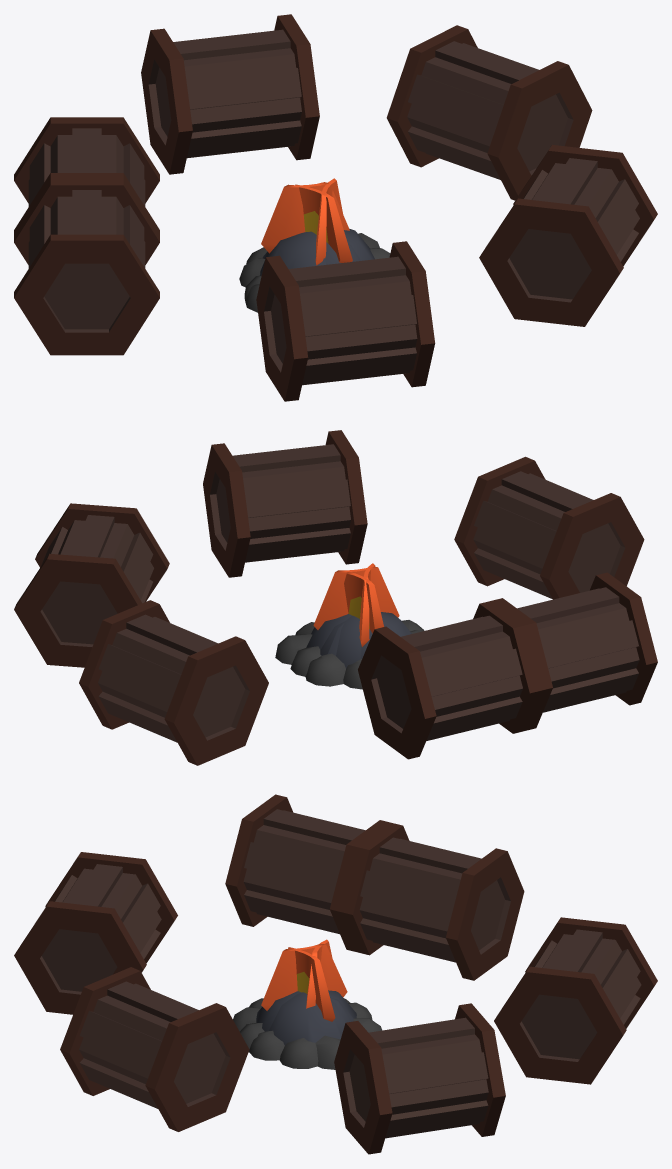
The model's file is campfire.fbx.
The picture shows the model from 3 angles, top to bottom: view 1: azimuth 30°, elevation 25°; view 2: azimuth 150°, elevation 25°; view 3: azimuth 270°, elevation 25°; orthographic projection. The views are drawn at different scales.
Parts seen in each view (by area): view 1: clipBarrel_large (×6), ear_point (×3), foot_shapeA (×3); view 2: clipBarrel_large (×6), foot_shapeA (×4), ear_point (×3); view 3: clipBarrel_large (×6), foot_shapeA (×4), ear_point (×2).
Boxes of the visible parts, x1,y1,x2,y2 form: clipBarrel_large (×6): [14, 14, 657, 401]; ear_point (×3): [261, 178, 352, 265]; foot_shapeA (×3): [239, 228, 379, 312]; clipBarrel_large (×6): [14, 430, 657, 765]; foot_shapeA (×4): [275, 612, 424, 689]; ear_point (×3): [313, 563, 399, 646]; clipBarrel_large (×6): [14, 794, 657, 1154]; foot_shapeA (×4): [233, 990, 382, 1069]; ear_point (×2): [261, 943, 347, 1021].
Bounding box in the file's own units: 49.5 × 9.33 × 48.04.
